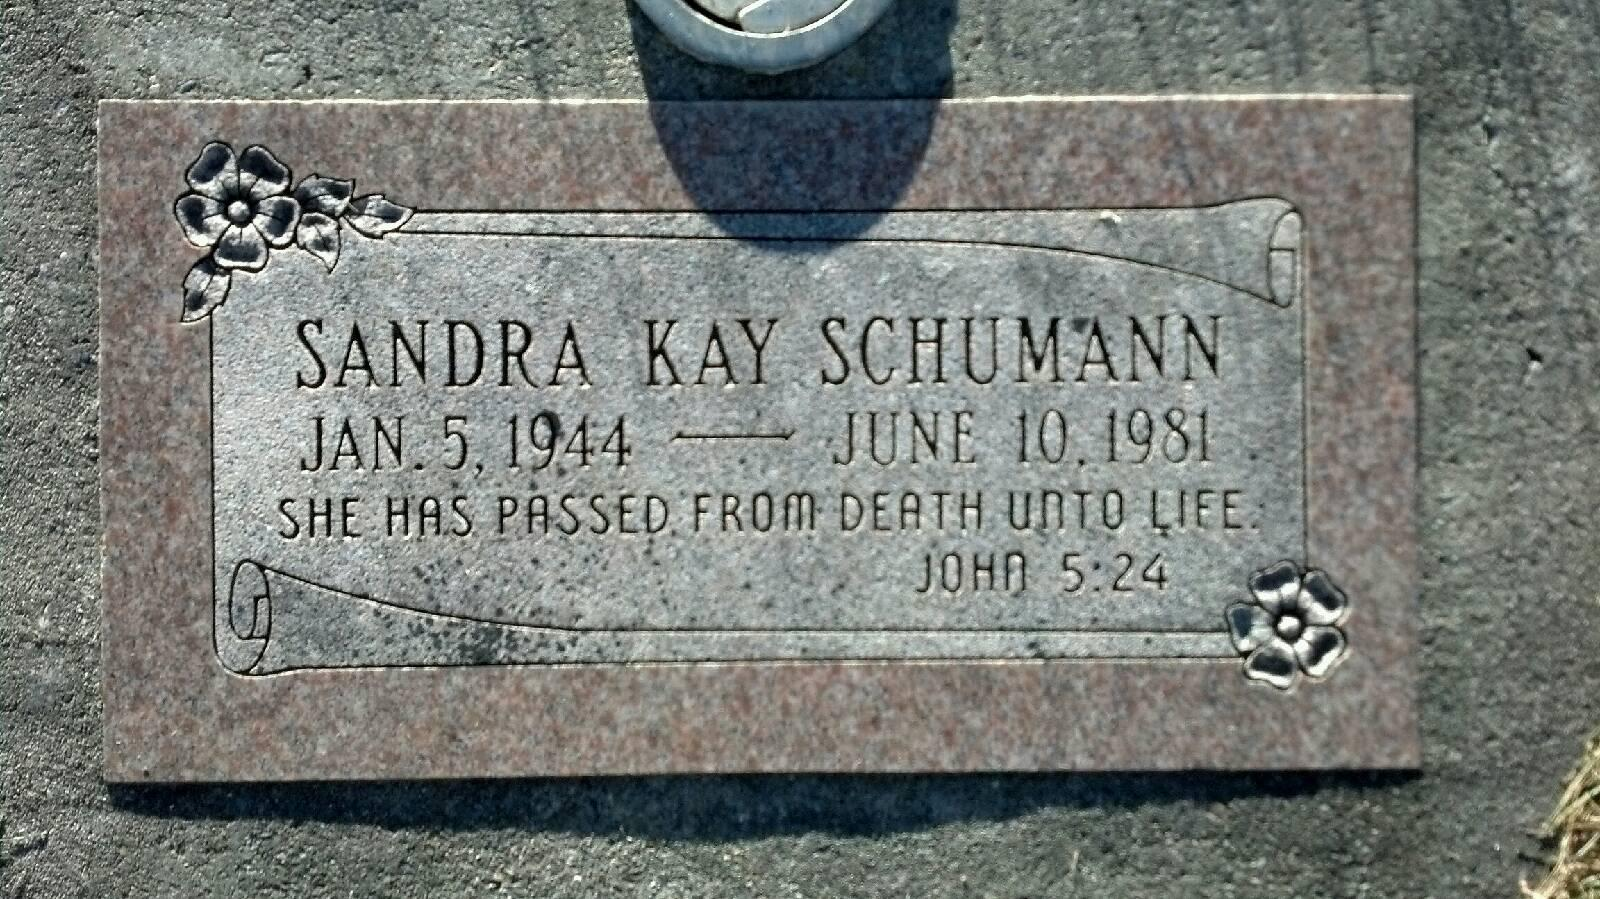flat: (89, 87, 1429, 791)
